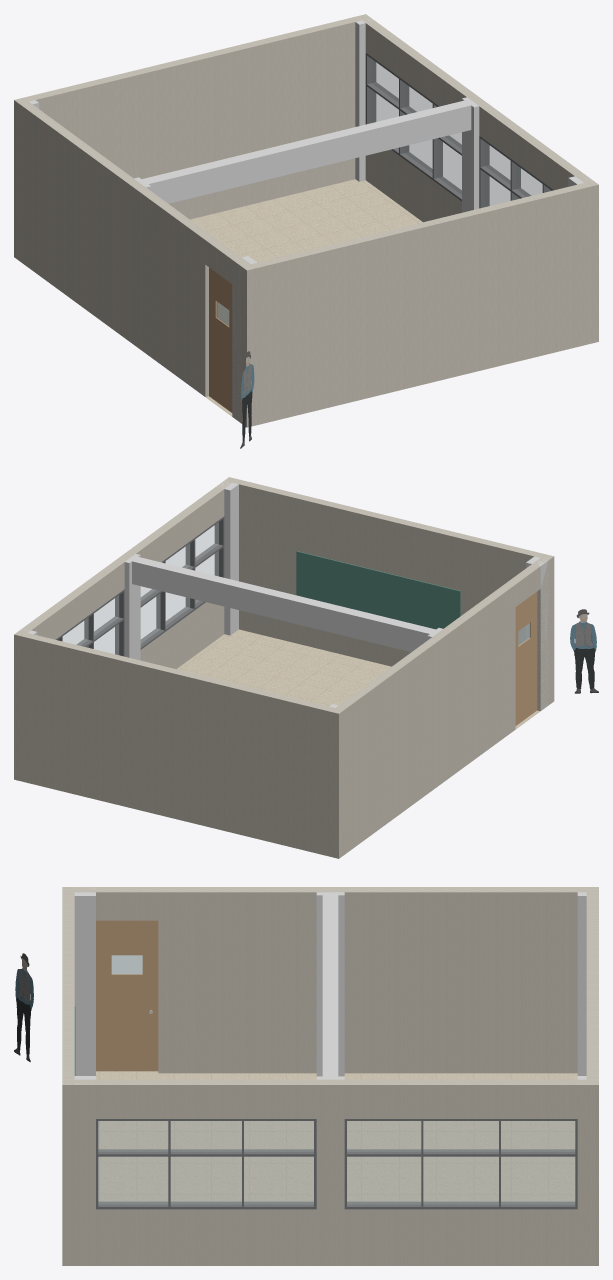
File: Salon.glb
The picture shows the model from 3 angles, top to bottom: view 1: azimuth 30°, elevation 25°; view 2: azimuth 150°, elevation 25°; view 3: azimuth 270°, elevation 25°; orthographic projection. The views are drawn at different scales.
Visible parts, largest first — view 1: Geom3D (×18), Geom3D_trabe_central_trabe_central, Geom3D_columna_este_columna_este, Geom3D_columna_noreste_columna_noreste, Geom3D_columna_suroeste_columna_suroeste; view 2: Geom3D (×18), Geom3D_trabe_central_trabe_central, Geom3D_columna_sureste_columna_sureste, Geom3D_columna_este_columna_este, Geom3D_columna_suroeste_columna_suroeste; view 3: Geom3D (×32), Geom3D_columna_suroeste_columna_suroeste, Geom3D_trabe_central_trabe_central, Geom3D_columna_oeste_columna_oeste, Geom3D_columna_noroeste_columna_noroeste.
Part boxes in pixels (bbox=[...]): Geom3D (×18): bbox=[14, 14, 598, 427]; Geom3D_trabe_central_trabe_central: bbox=[142, 100, 471, 203]; Geom3D_columna_este_columna_este: bbox=[462, 97, 479, 212]; Geom3D_columna_noreste_columna_noreste: bbox=[355, 19, 373, 181]; Geom3D_columna_suroeste_columna_suroeste: bbox=[232, 256, 256, 422]; Geom3D (×18): bbox=[14, 477, 595, 858]; Geom3D_trabe_central_trabe_central: bbox=[132, 557, 435, 652]; Geom3D_columna_sureste_columna_sureste: bbox=[216, 481, 238, 635]; Geom3D_columna_este_columna_este: bbox=[124, 554, 140, 660]; Geom3D_columna_suroeste_columna_suroeste: bbox=[526, 556, 549, 710]; Geom3D (×32): bbox=[16, 887, 598, 1265]; Geom3D_columna_suroeste_columna_suroeste: bbox=[74, 887, 95, 1075]; Geom3D_trabe_central_trabe_central: bbox=[322, 895, 338, 1076]; Geom3D_columna_oeste_columna_oeste: bbox=[316, 892, 344, 1076]; Geom3D_columna_noroeste_columna_noroeste: bbox=[577, 892, 586, 1075].
Size of the model in its own units: 8.09 by 3.2 by 9.37.
Materials: 28 (6 with a texture image).
